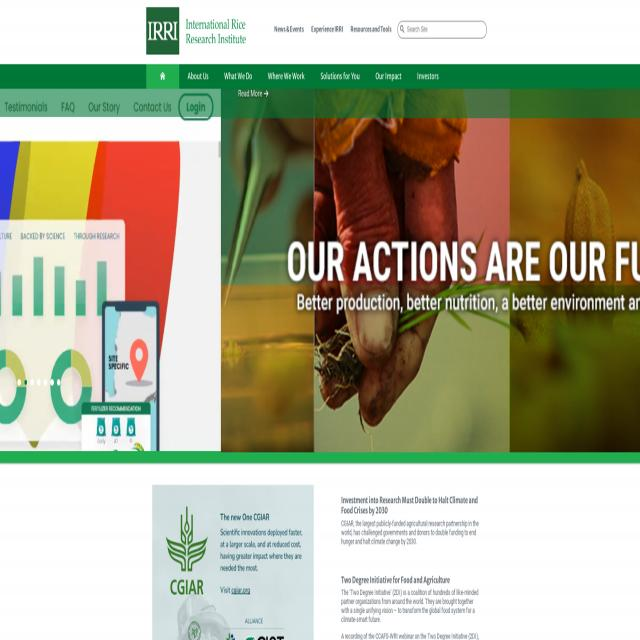button: (151, 484, 313, 640), (145, 5, 180, 56), (313, 64, 367, 89), (260, 64, 312, 89), (2, 93, 50, 117), (84, 92, 129, 117), (216, 64, 259, 89), (132, 94, 178, 116), (368, 64, 408, 89), (351, 17, 392, 41), (178, 94, 213, 121), (180, 64, 216, 89), (410, 64, 446, 89), (146, 64, 179, 89), (311, 17, 343, 41), (274, 17, 304, 41), (52, 94, 82, 116)
field: (398, 21, 487, 38)
